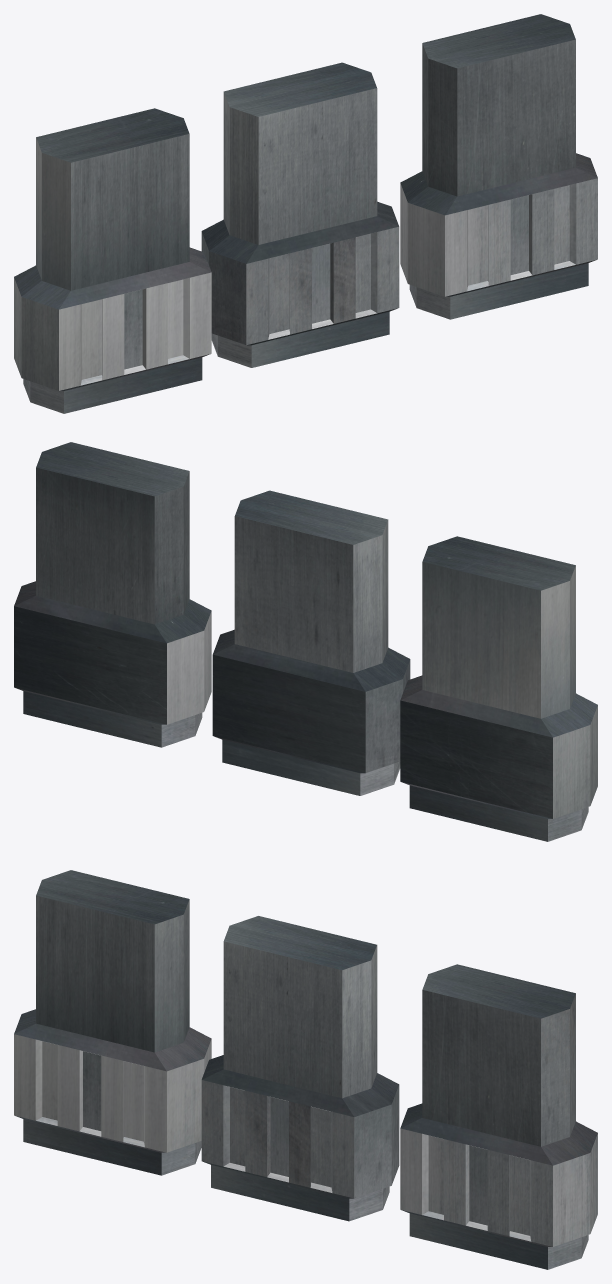
Rendered from heaters.fbx.
3 views of the same model, one above another, from view 1: azimuth 30°, elevation 25°; view 2: azimuth 150°, elevation 25°; view 3: azimuth 330°, elevation 25° (orthographic).
Parts seen in each view (by area): view 1: Heaters; view 2: Heaters; view 3: Heaters.
Part boxes in pixels (left/top/right/bottom): Heaters: left=14, top=14, right=597, bottom=413; Heaters: left=14, top=442, right=597, bottom=841; Heaters: left=14, top=870, right=597, bottom=1269.
Size of the model in its own units: 14.64 by 6.07 by 2.
